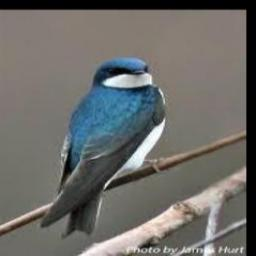Swallow: (37, 57, 167, 239)
